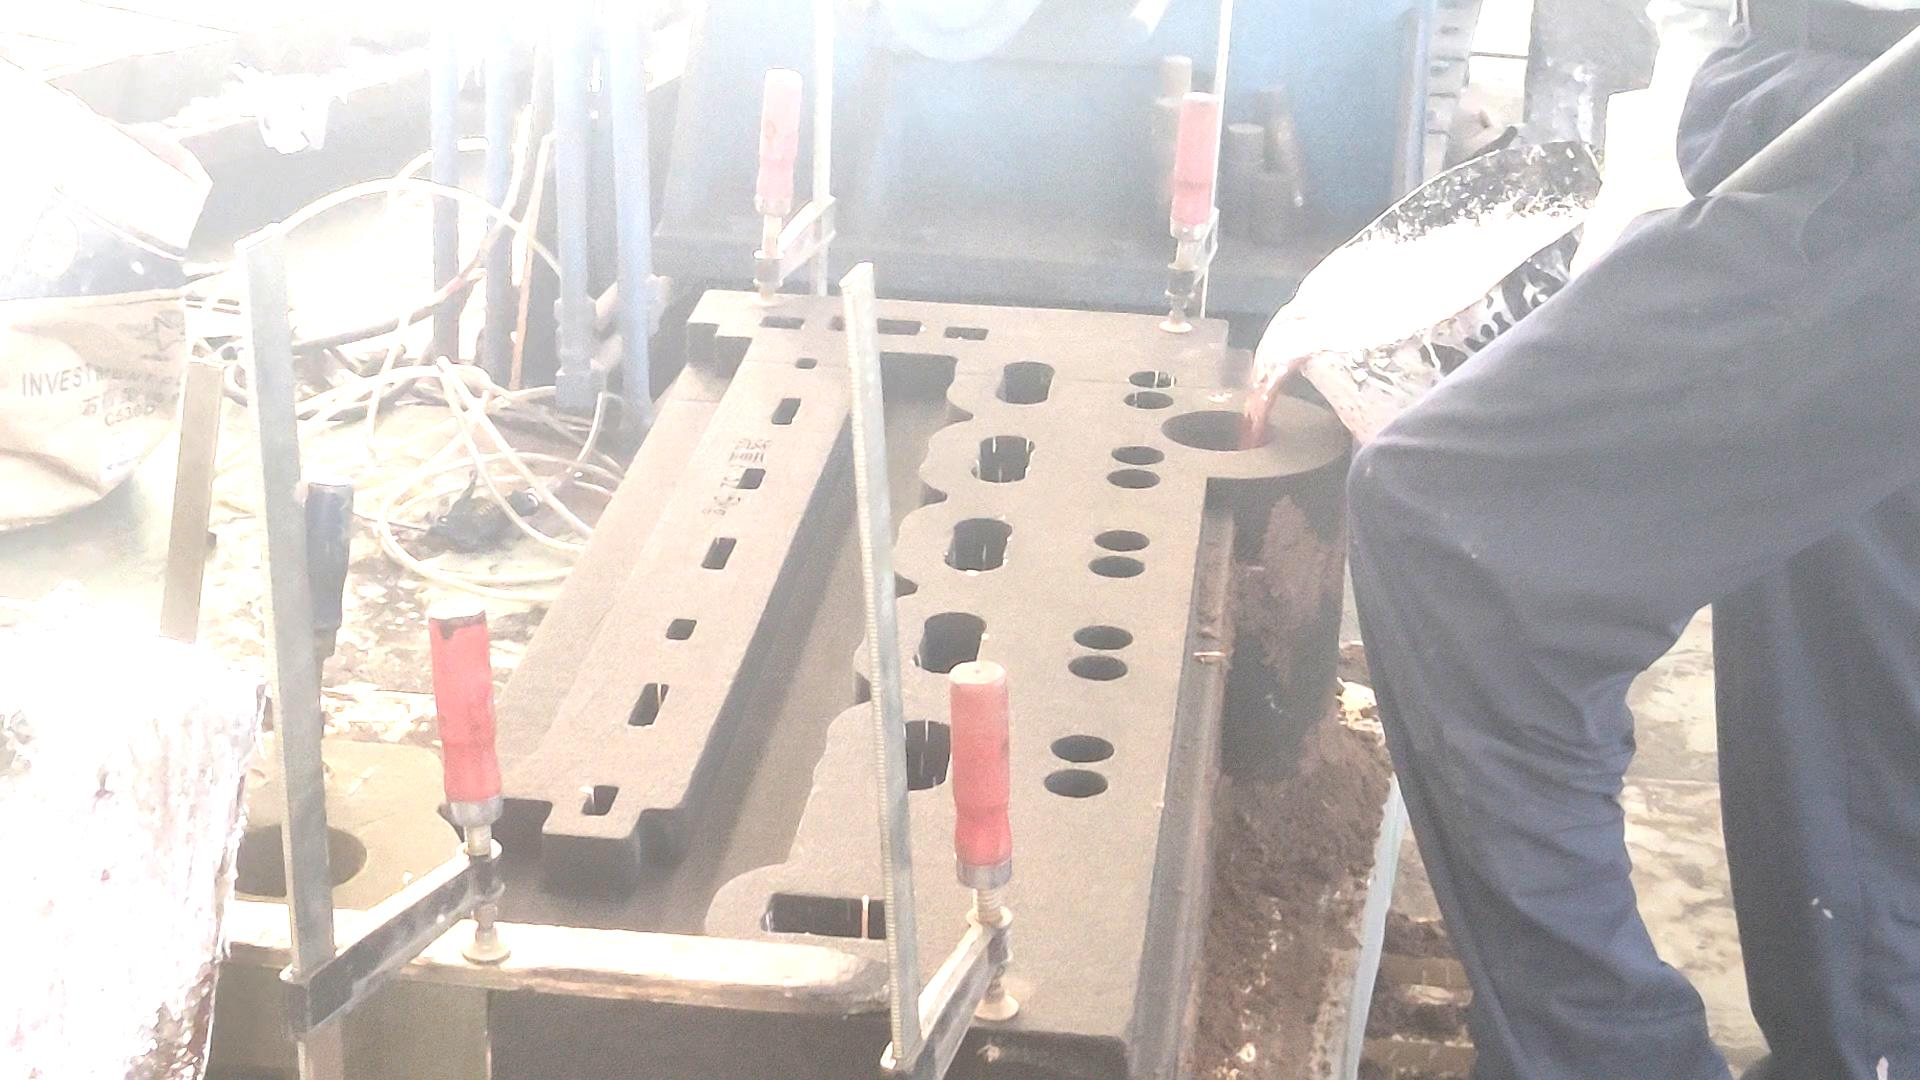pouring hole: (218, 819, 367, 897), (1160, 411, 1279, 450)
